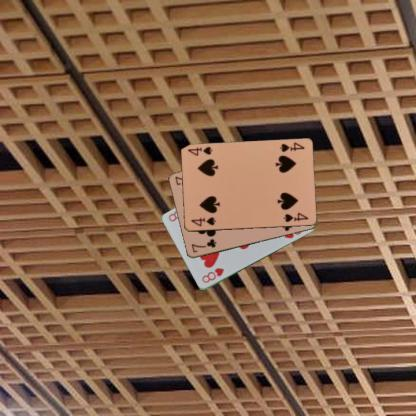4s: (188, 215, 217, 228), (277, 140, 306, 153)
7c: (189, 236, 218, 254)
8h: (200, 265, 226, 284)
